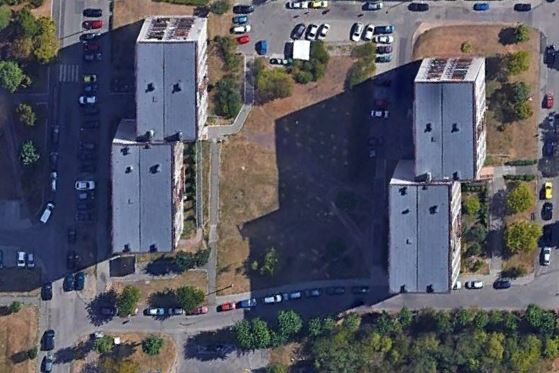block of flats: (106, 11, 212, 260), (384, 49, 490, 298)
